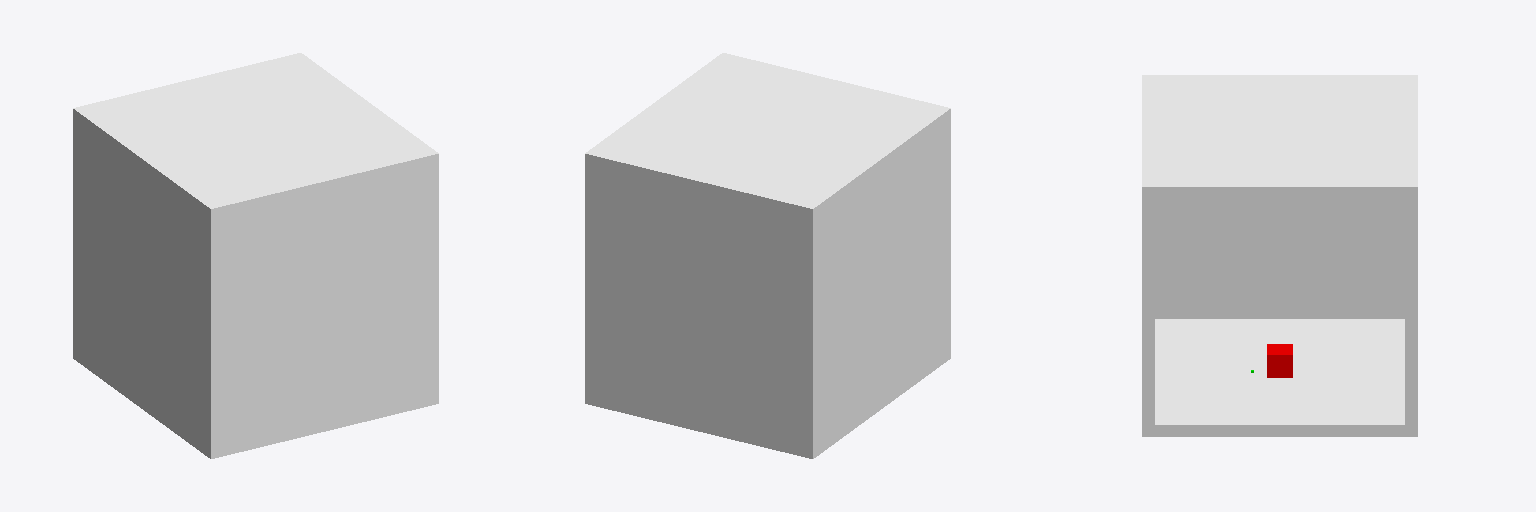
The model's file is block.obj.
The picture shows the model from 3 angles: view 1: azimuth 30°, elevation 25°; view 2: azimuth 150°, elevation 25°; view 3: azimuth 270°, elevation 25°; orthographic projection.
Size of the model in its own units: 105 by 110 by 110.